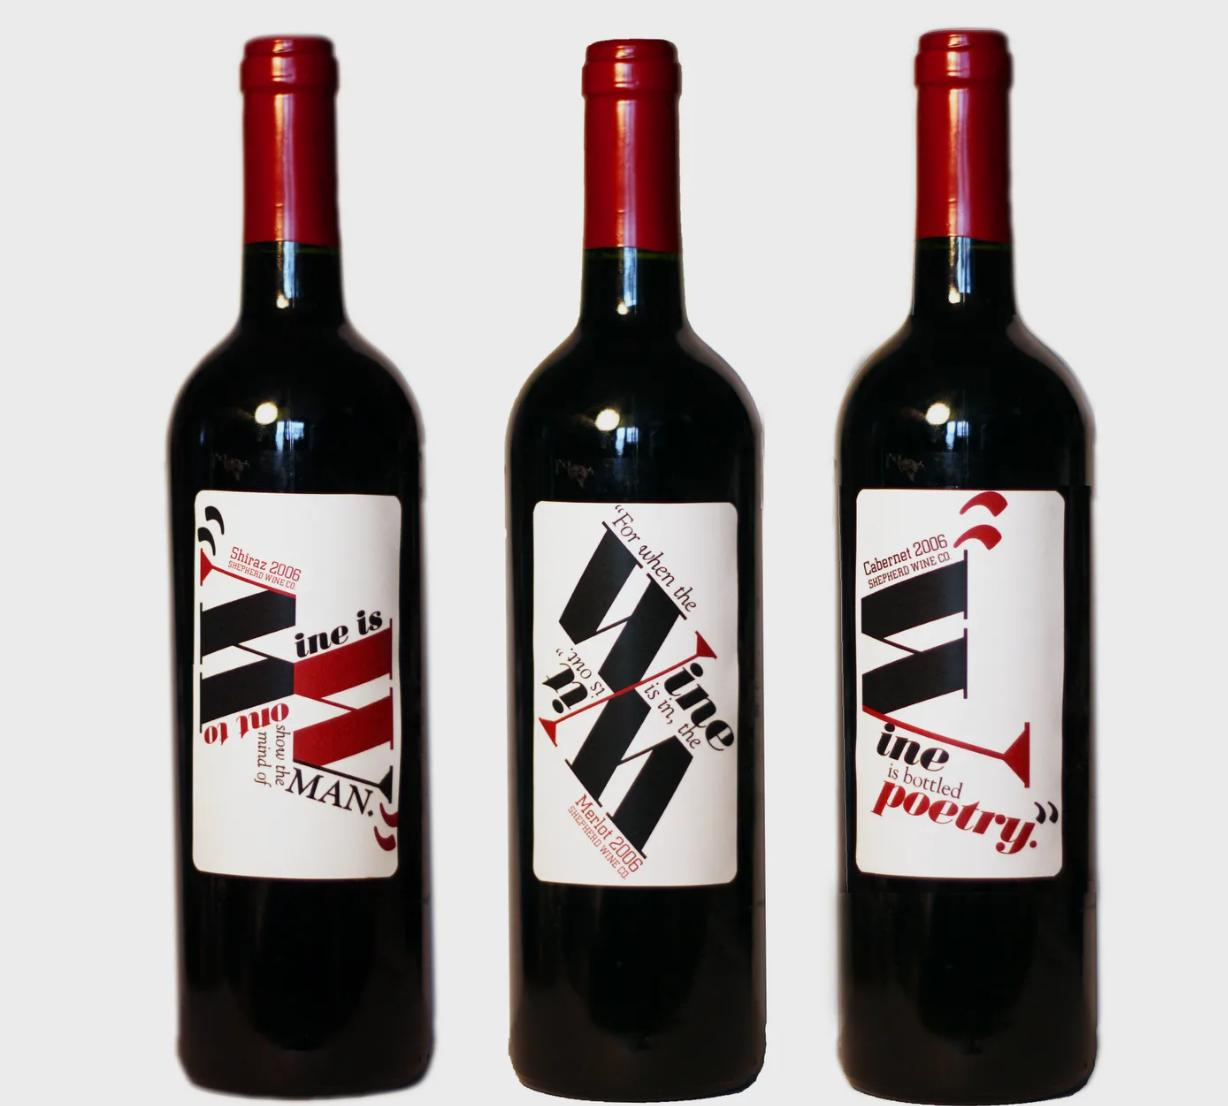wine bottle: (167, 35, 436, 1101), (833, 28, 1097, 1105), (505, 37, 767, 1104)
wine label: (194, 485, 405, 879), (856, 485, 1065, 880), (531, 497, 738, 885)
